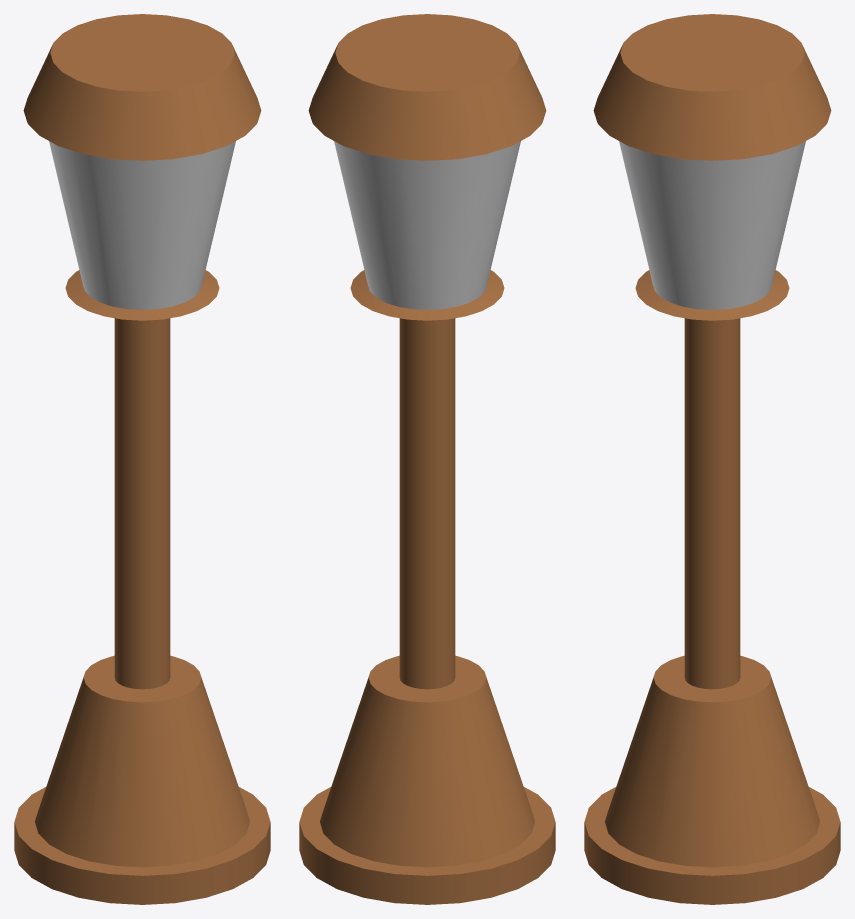
File: lamp.dae
The picture shows the model from 3 angles, left to right: view 1: azimuth 30°, elevation 25°; view 2: azimuth 150°, elevation 25°; view 3: azimuth 270°, elevation 25°; orthographic projection.
Parts seen in each view (by area): view 1: lamp; view 2: lamp; view 3: lamp.
Part boxes in pixels (x1,y1,x2,y2): lamp: [14, 14, 270, 904]; lamp: [299, 14, 555, 904]; lamp: [584, 14, 840, 904].
Bounding box in the file's own units: 0.7103 × 0.7103 × 2.44.
